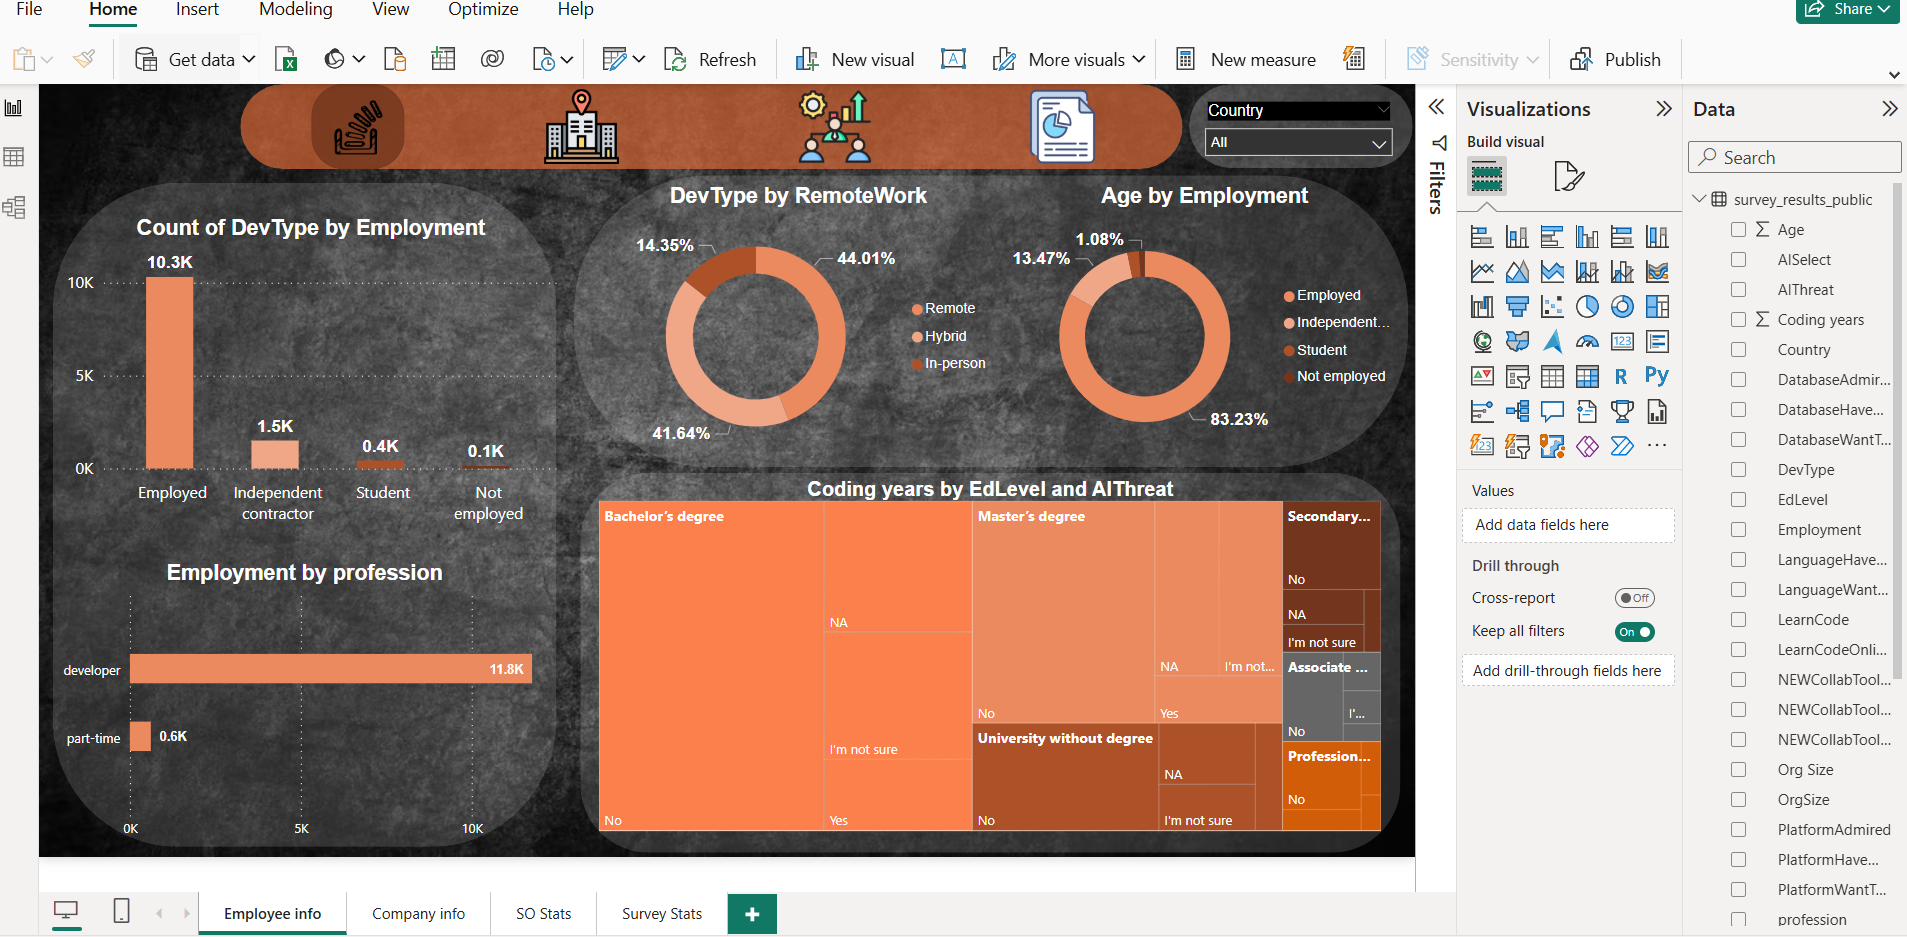

Layout of this report page (visuals, bound fields, positions):
{"tool":"powerbi","page":{"name":"Employee info","canvas":[1280,720],"ordinal":0},"visuals":[{"type":"shape","box":[1070,0,208.3,78.3],"z":0,"group":"g1"},{"type":"shape","box":[503,362.2,763.1,353.5],"z":1000},{"type":"shape","box":[12.9,92,468.5,618],"z":2000},{"type":"shape","box":[497.7,84.8,776,271.6],"z":3000},{"type":"shape","box":[186.8,0,876.6,79],"z":4000},{"type":"image","box":[465.6,0,79,79],"z":5000},{"type":"image","box":[686.9,0,106.3,79],"z":6000},{"type":"image","box":[896.8,0,110.7,79],"z":7000},{"type":"image","box":[252.9,0,86.2,79],"z":8000},{"type":"donutChart","title":"DevType by RemoteWork","fields":{"Y":["CountNonNull(survey_results_public.DevType)"],"Category":["survey_results_public.RemoteWork"]},"box":[517.8,92,378,268.7],"z":9000},{"type":"donutChart","title":"Age by Employment","fields":{"Y":["Sum(survey_results_public.Age)"],"Category":["survey_results_public.Employment"]},"box":[895.8,92,378,268.7],"z":10000},{"type":"barChart","title":"Employment by profession","fields":{"Category":["survey_results_public.profession"],"Y":["CountNonNull(survey_results_public.Employment)"]},"box":[12.9,442.6,468.5,267.3],"z":11000},{"type":"lineClusteredColumnComboChart","fields":{"Y":["CountNonNull(survey_results_public.DevType)"],"Category":["survey_results_public.Employment"]},"box":[18.7,122.2,468.5,294.6],"z":12000},{"type":"treemap","title":"Coding years by EdLevel and AIThreat","fields":{"Values":["CountNonNull(survey_results_public.Coding years)"],"Group":["survey_results_public.EdLevel"],"Details":["survey_results_public.AIThreat"]},"box":[516,366.1,737.2,333.4],"z":13000},{"type":"slicer","title":"country Slicer","fields":{"Values":["survey_results_public.Country"]},"box":[1075,11.7,195,58.3],"z":14000,"group":"g1"},{"type":"group","id":"g1","title":"Slicer","box":[1070,0,208.3,78.3],"z":14001},{"type":"textbox","box":[24.1,20.5,168.8,72.4],"z":14002}]}

Visuals, with their boxes on the page's 1280x720 design canvas (x1, y1, x2, y2). These are canvas units, not pixel positions in the 1907x937 screenshot, which may show the page scaled, cropped or inside an application window:
shape: box(1070, 0, 1278, 78)
shape: box(503, 362, 1266, 716)
shape: box(13, 92, 481, 710)
shape: box(498, 85, 1274, 356)
shape: box(187, 0, 1063, 79)
image: box(466, 0, 545, 79)
image: box(687, 0, 793, 79)
image: box(897, 0, 1008, 79)
image: box(253, 0, 339, 79)
"DevType by RemoteWork" donutChart: box(518, 92, 896, 361)
"Age by Employment" donutChart: box(896, 92, 1274, 361)
"Employment by profession" barChart: box(13, 443, 481, 710)
lineClusteredColumnComboChart - CountNonNull(survey_results_public.DevType) x survey_results_public.Employment: box(19, 122, 487, 417)
"Coding years by EdLevel and AIThreat" treemap: box(516, 366, 1253, 700)
"country Slicer" slicer: box(1075, 12, 1270, 70)
"Slicer" group: box(1070, 0, 1278, 78)
textbox: box(24, 20, 193, 93)
